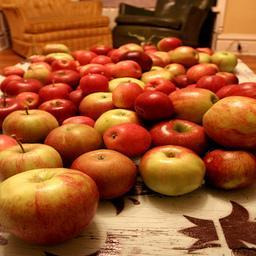apple: (1, 167, 98, 245), (138, 144, 207, 197), (71, 149, 137, 200), (202, 95, 256, 148), (1, 138, 62, 181), (43, 122, 102, 165), (202, 148, 255, 190), (1, 106, 58, 143), (150, 120, 208, 155), (103, 123, 151, 157), (167, 89, 219, 120), (109, 79, 144, 109)
